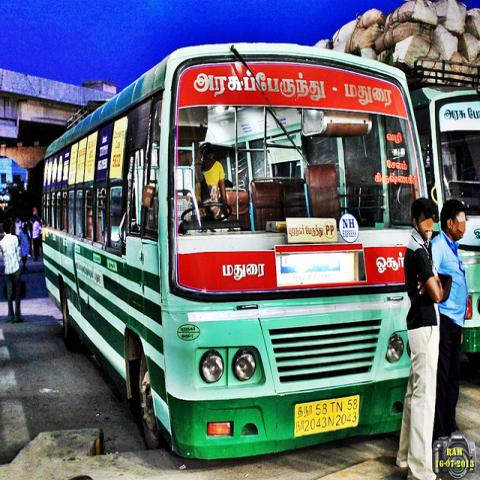bus: (44, 43, 431, 462), (400, 58, 480, 372)
